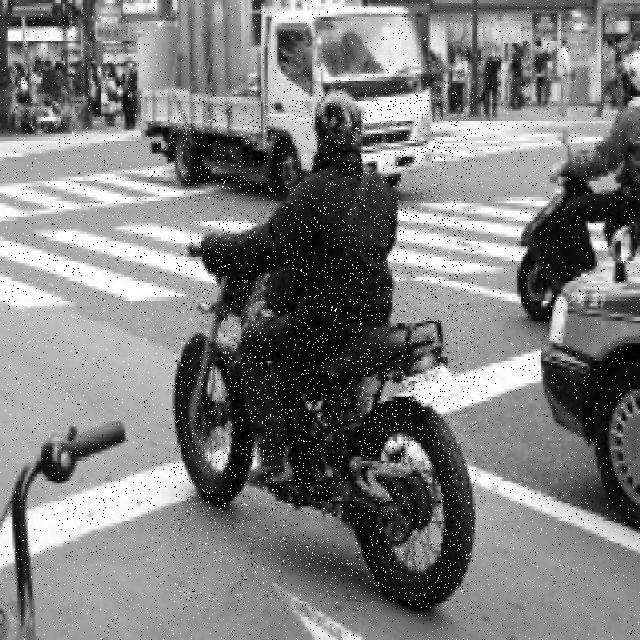Motorbike: (173, 88, 476, 611)
